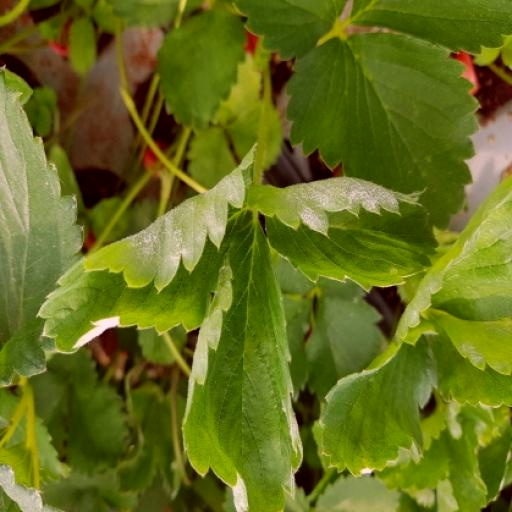Powdery Mildew Leaf: (35, 158, 258, 371), (180, 0, 303, 299), (248, 217, 441, 336)
